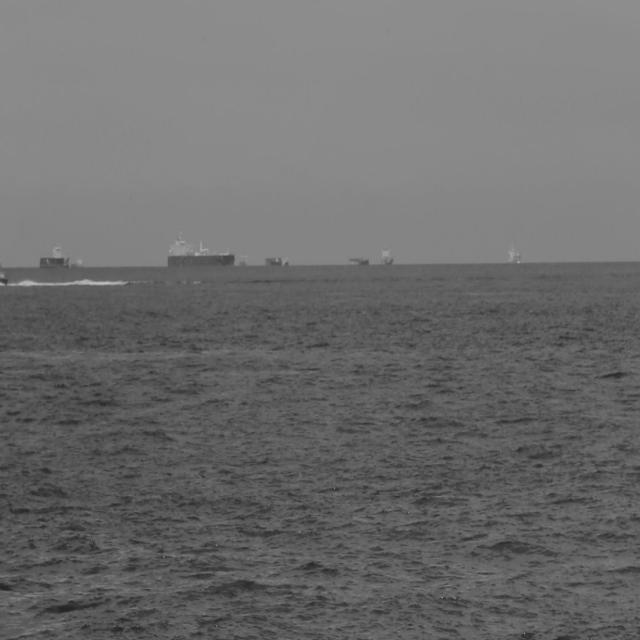ship: (166, 228, 235, 270), (38, 242, 70, 270), (506, 241, 522, 265), (379, 242, 394, 267), (0, 253, 9, 288), (348, 254, 370, 267), (264, 254, 282, 266), (282, 255, 289, 266)
